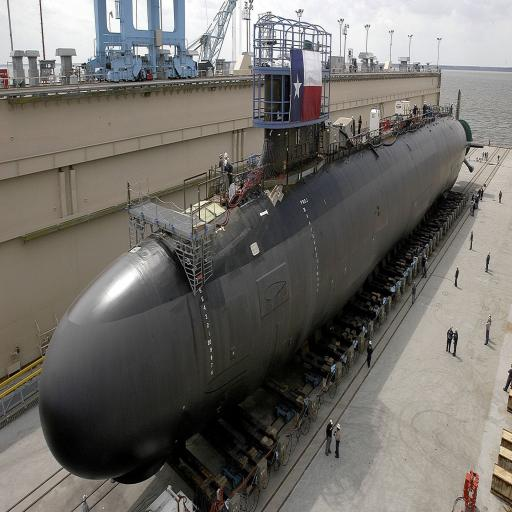submarine: (35, 18, 489, 486)
